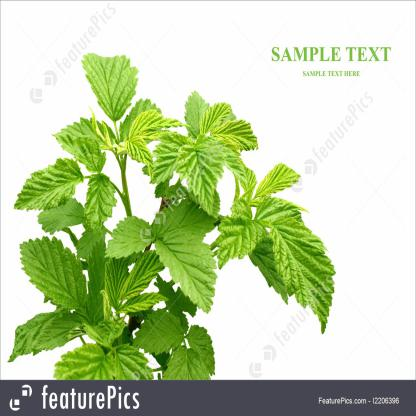Raspberry leaf: (266, 220, 336, 335), (154, 227, 218, 318), (21, 236, 90, 310), (175, 137, 227, 220), (83, 51, 139, 119), (12, 158, 84, 210), (153, 196, 220, 236), (215, 214, 257, 275), (105, 215, 158, 260), (254, 200, 308, 229)
